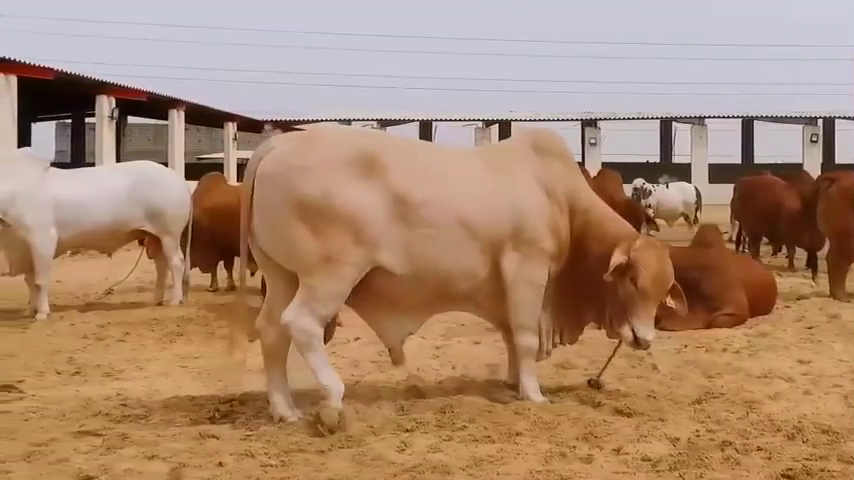bo: (219, 122, 686, 434), (1, 140, 188, 320), (641, 224, 783, 334), (726, 151, 814, 272), (188, 161, 253, 292), (799, 162, 854, 308), (572, 155, 657, 233), (627, 172, 699, 234)
